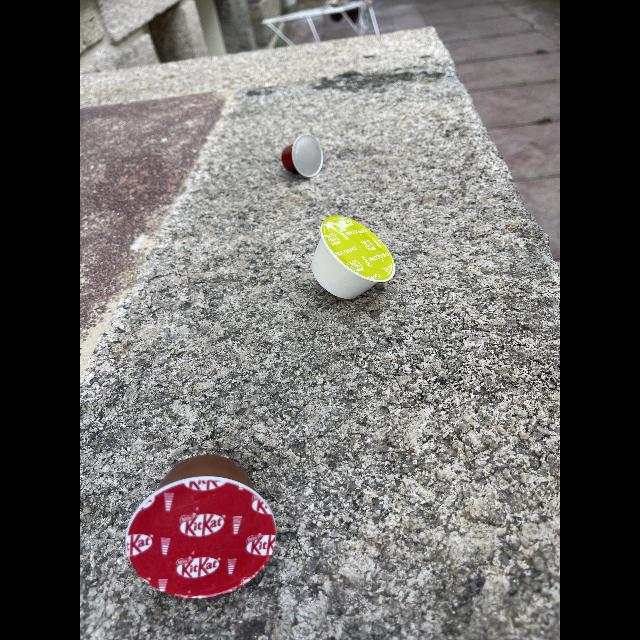intact_capsule: (119, 447, 283, 609), (306, 210, 402, 308), (276, 132, 328, 184)
